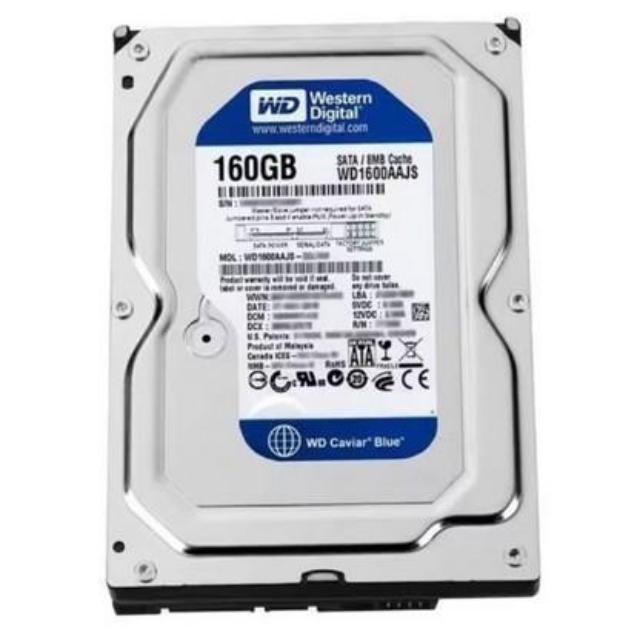DISK: (100, 9, 552, 623)
